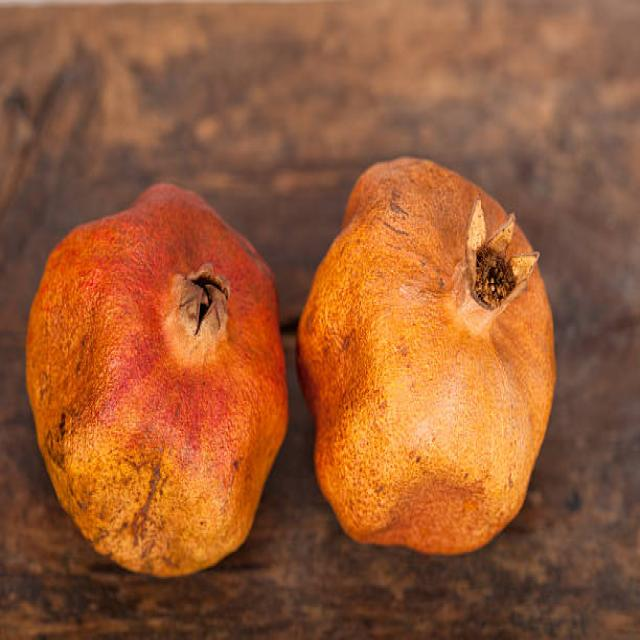overripe: (21, 175, 293, 580), (294, 150, 560, 561)
